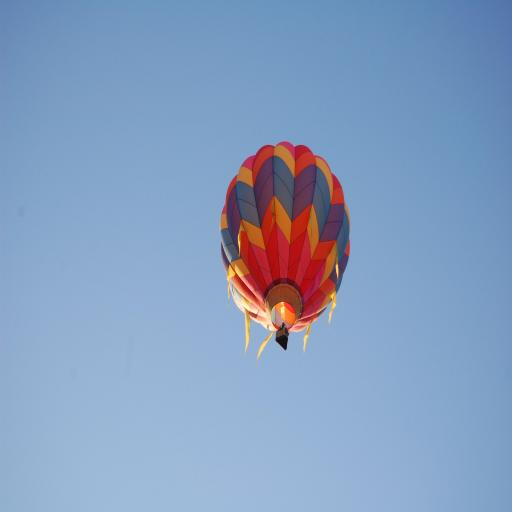hot air ballon: (217, 139, 351, 353)
